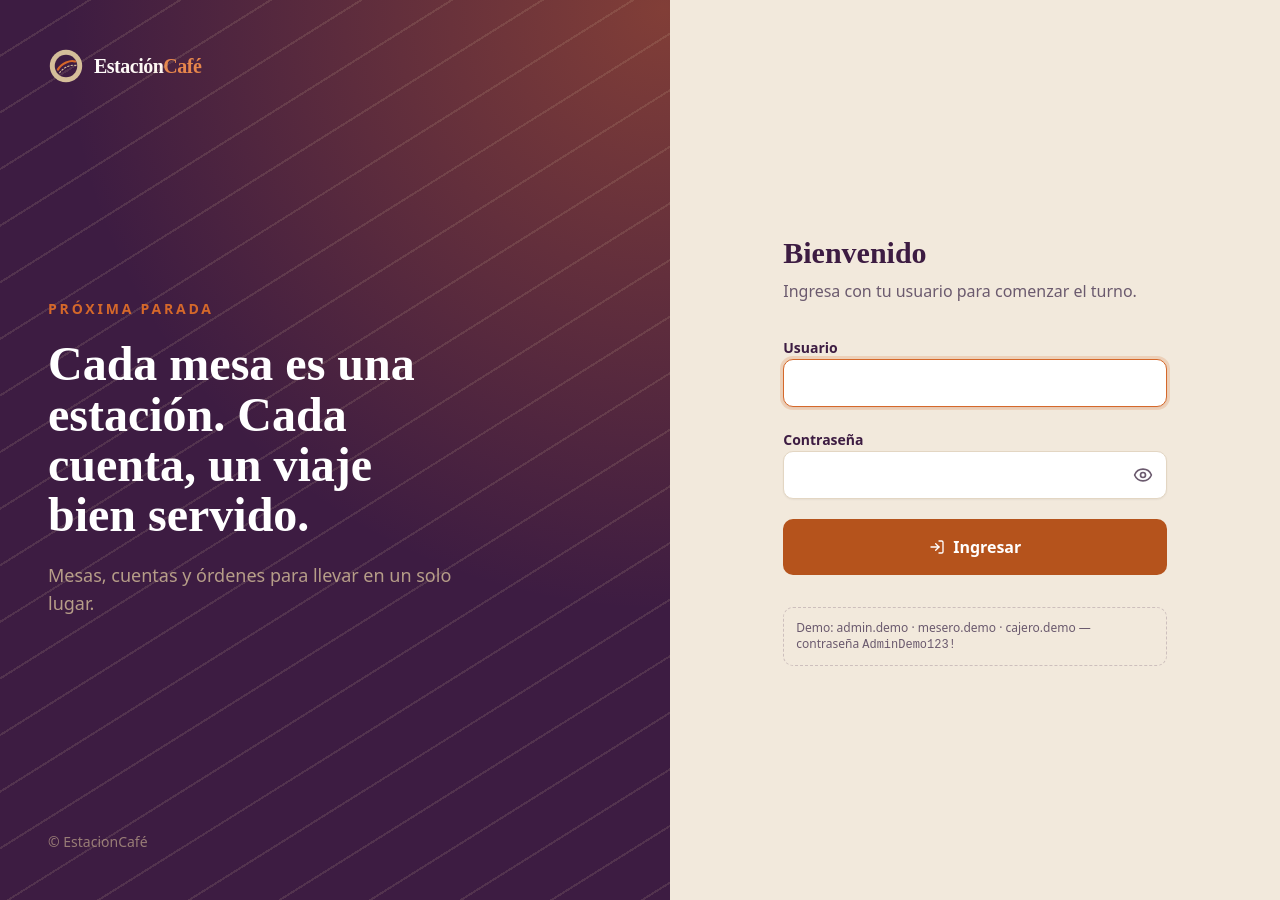
Scenario: Autenticación y navegación por rol › el admin vuelve a la ruta que pidió antes del login
In the field labelled "Usuario": point(975, 382) [783,358,1167,406], type "admin.demo"
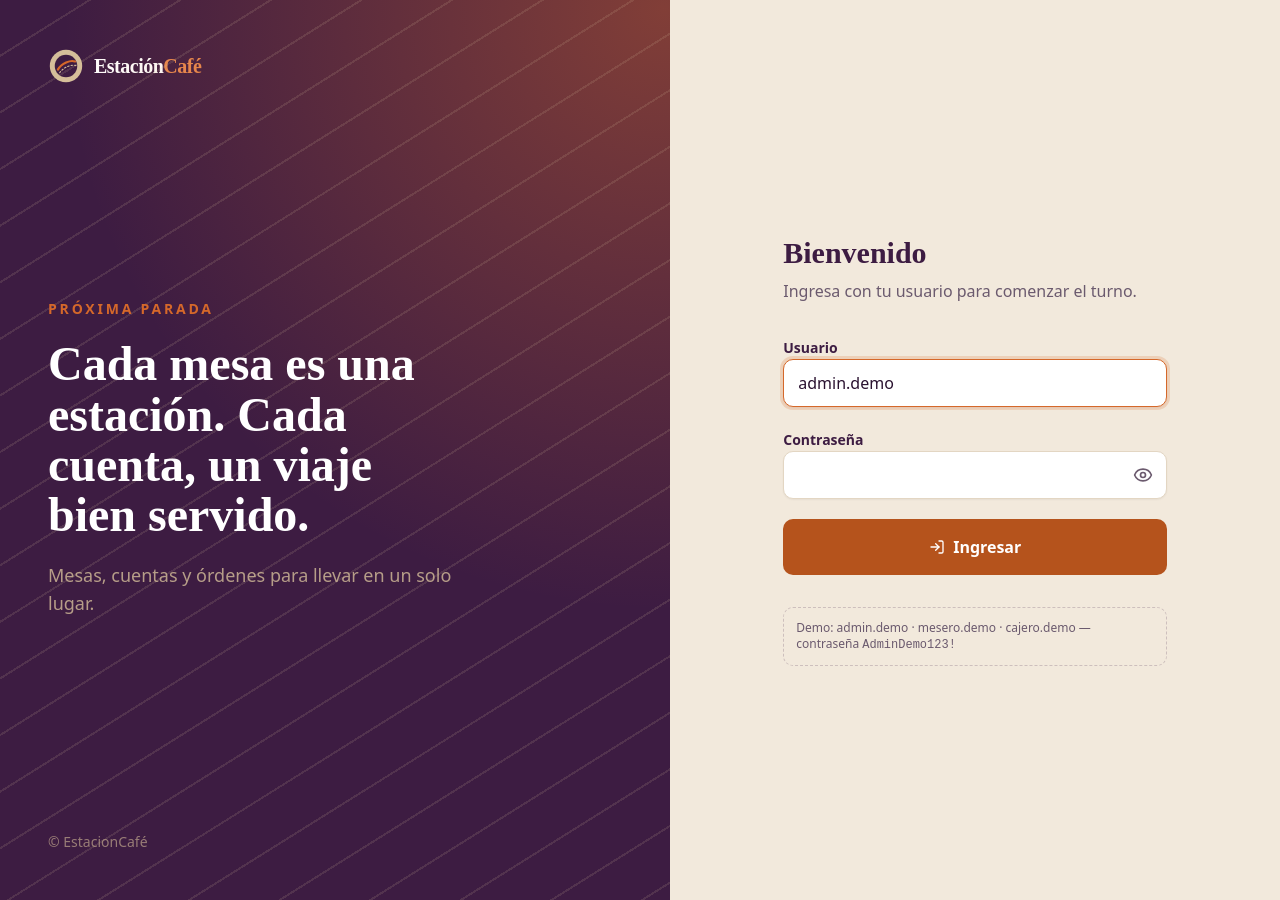
In the password field labelled "Contraseña": point(975, 474) [783,450,1167,498], type "AdminDemo123!"
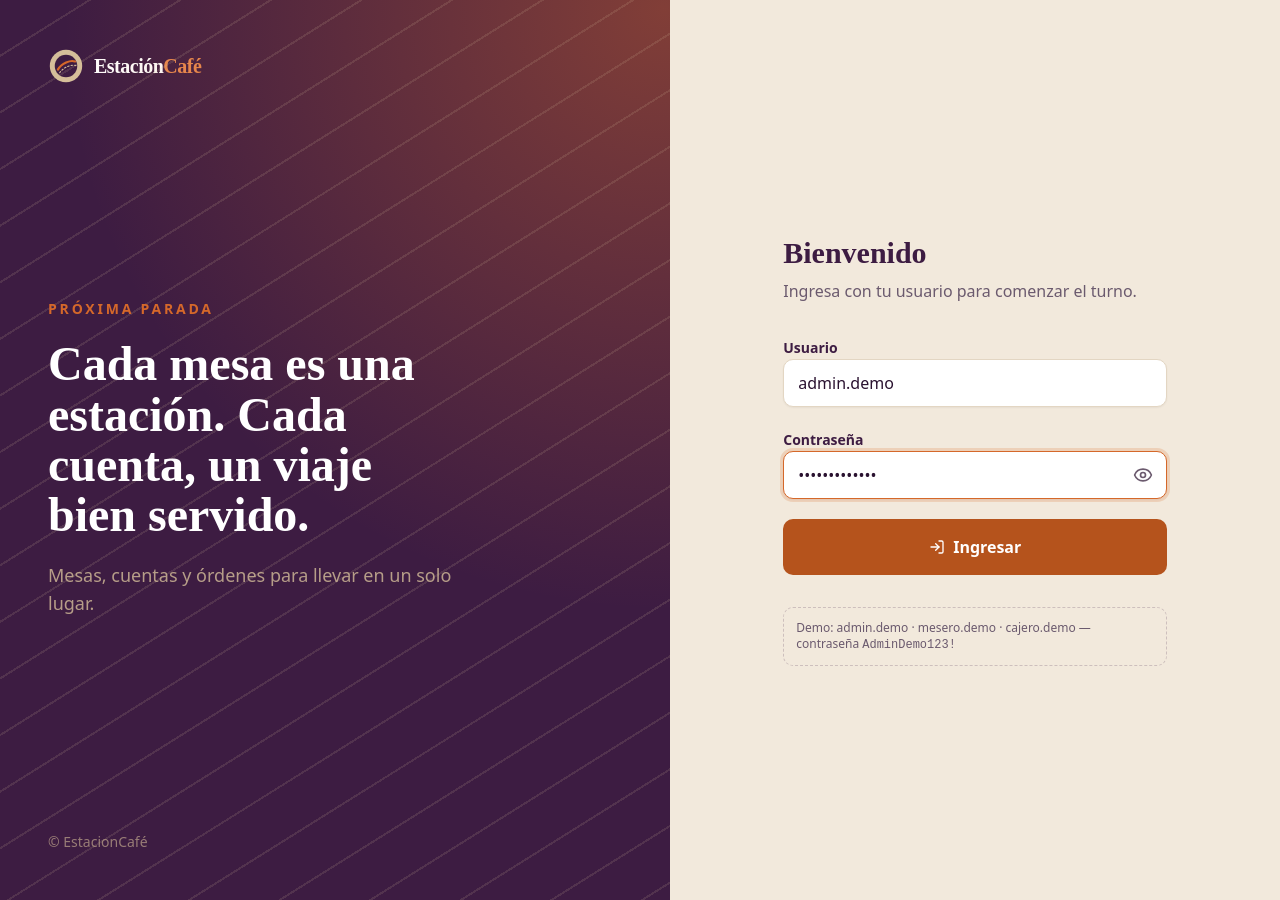
Click the button "Ingresar": point(975, 546) [783,518,1167,574]
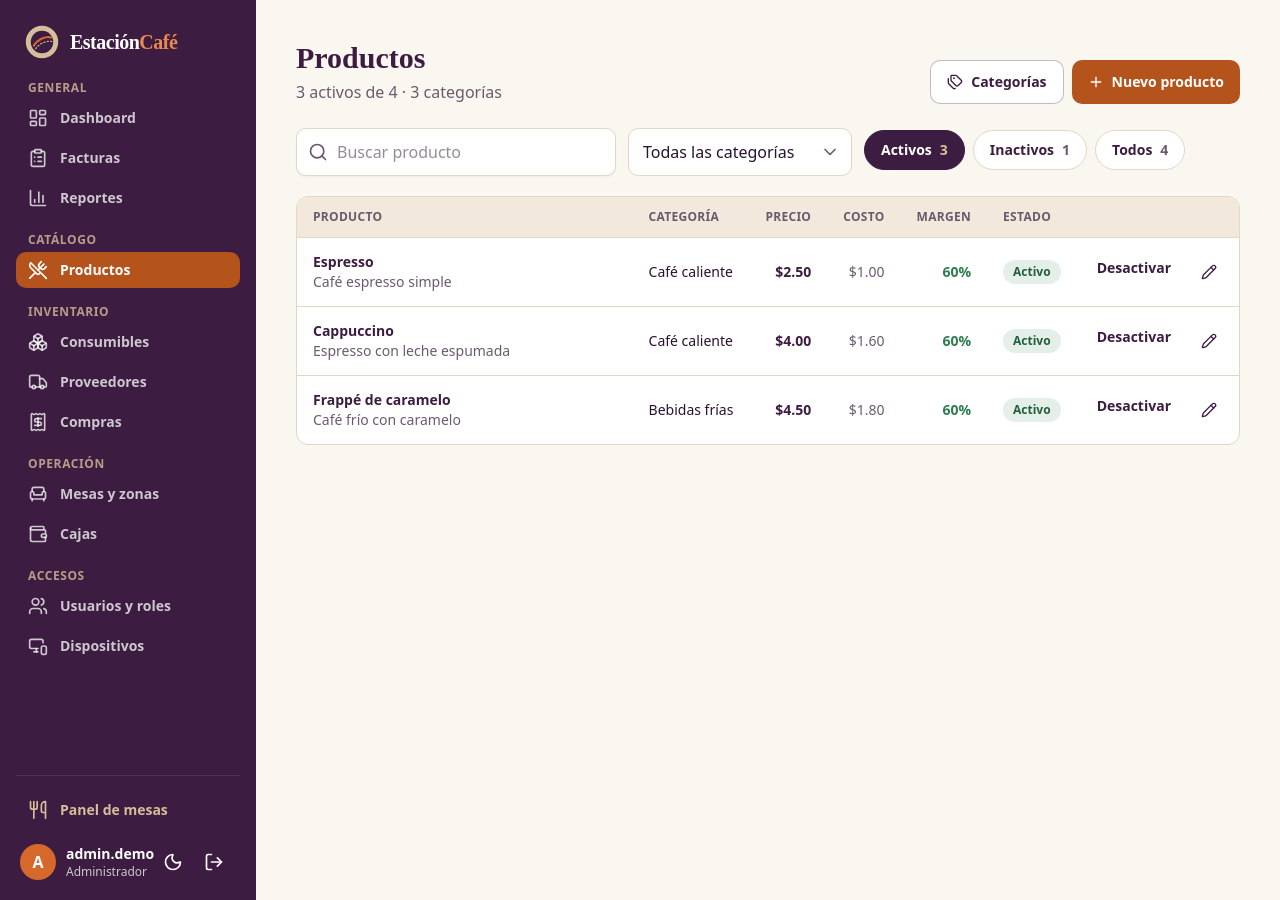
Expected: the heading "Productos" is shown, [296,41,426,74]
